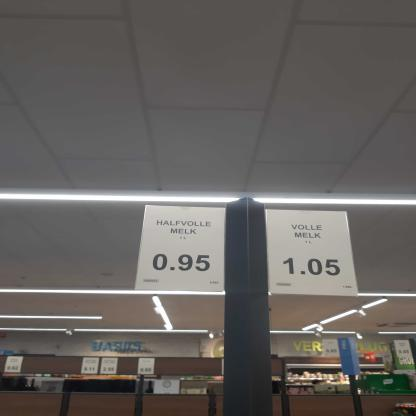prtg: (135, 204, 228, 293), (265, 209, 358, 298)
